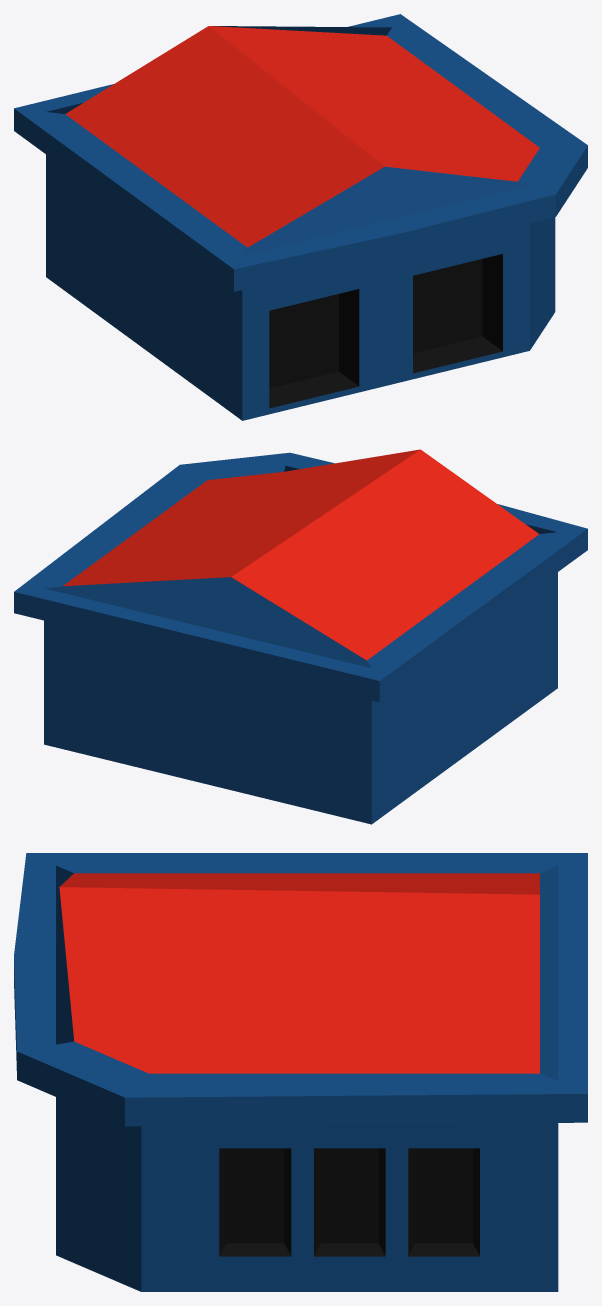
File: loja_17.fbx
3 renders of one model, top to bottom at view 1: azimuth 30°, elevation 25°; view 2: azimuth 150°, elevation 25°; view 3: azimuth 270°, elevation 25°, orthographic. The views are drawn at different scales.
Parts seen in each view (by area): view 1: Cube; view 2: Cube; view 3: Cube.
Boxes of the visible parts, box(x1,y1,x2,y2) form: Cube: box(14, 14, 587, 420); Cube: box(14, 449, 587, 824); Cube: box(14, 853, 587, 1291).
Bounding box in the file's own units: 1235 × 656 × 1224.
